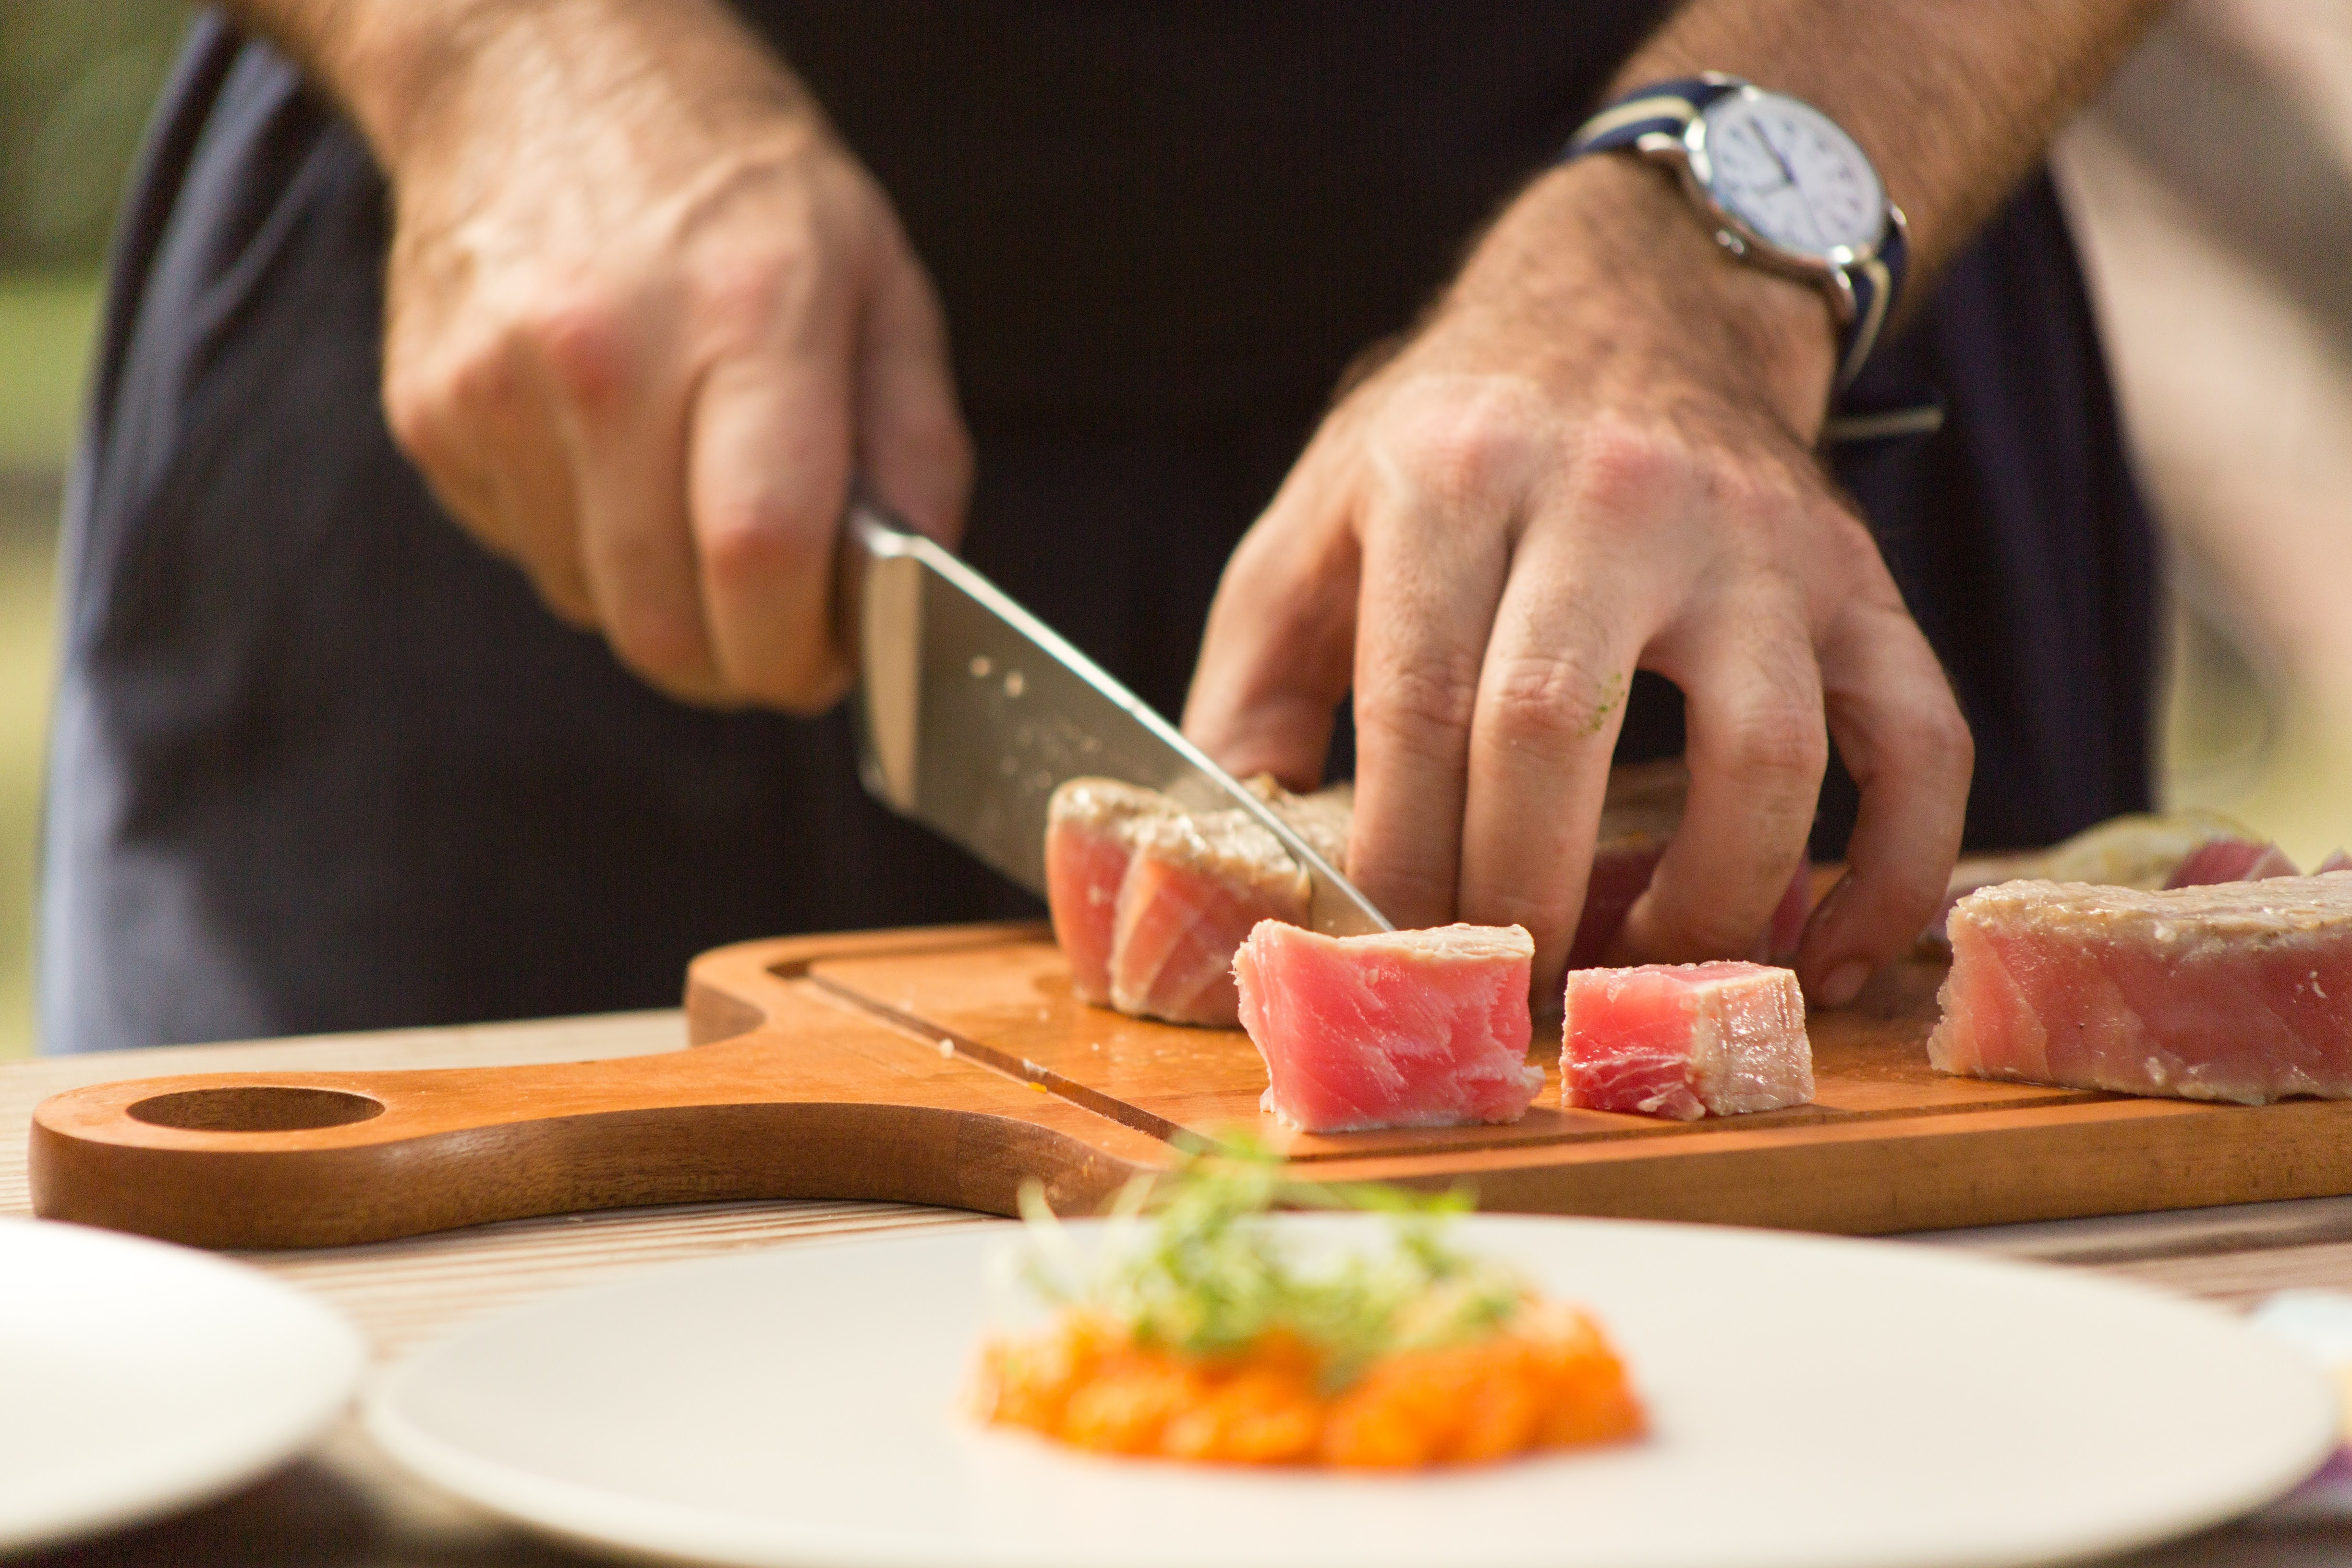knife: (791, 462, 1475, 1045)
